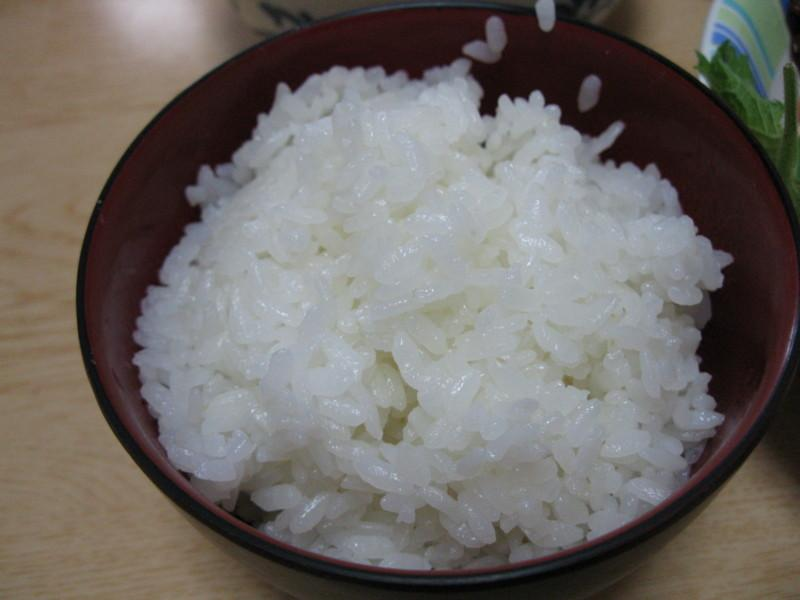rice: (135, 71, 729, 568)
